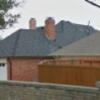chimneys: (44, 17, 56, 41)
